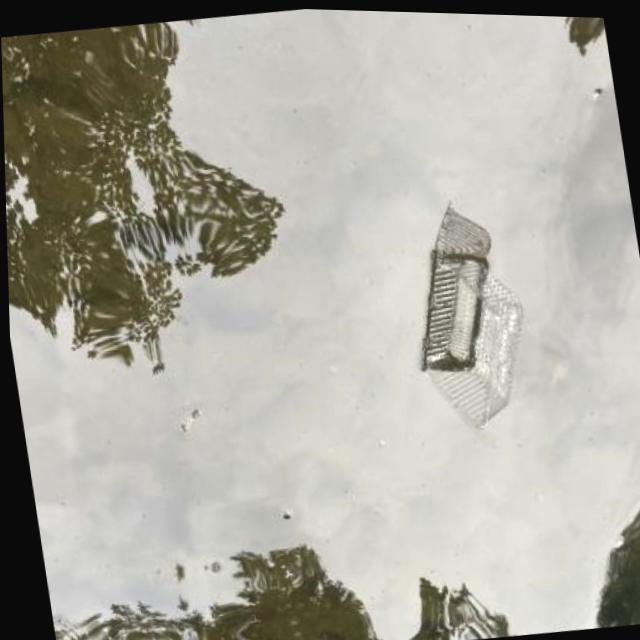Plastic: (397, 233, 541, 444)
